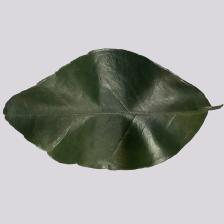healthy: (16, 56, 206, 170)
